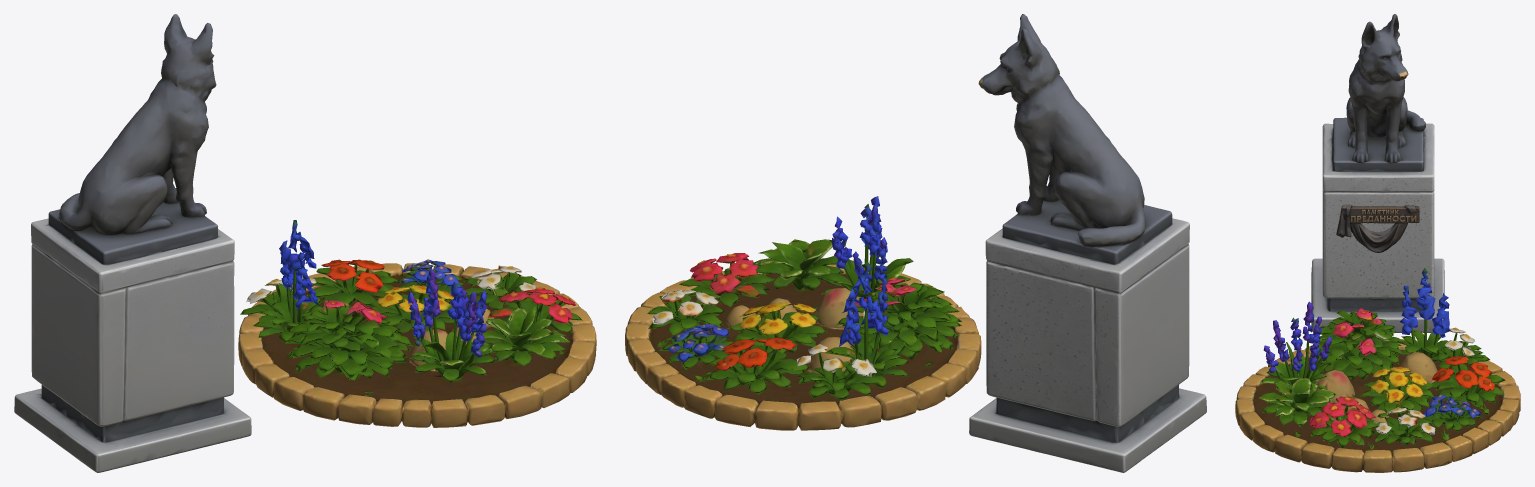
File: DOM_andreyvbvbvb_8.glb
3 renders of one model, left to right at view 1: azimuth 30°, elevation 25°; view 2: azimuth 150°, elevation 25°; view 3: azimuth 270°, elevation 25°, orthographic. The views are drawn at different scales.
Visible parts, largest first — view 1: tripo_node_e06c3dab-32b9-4c18-9968-e69ea7e20412, tripo_node_1d35d841-9beb-472e-8e19-c46cc261ab7f; view 2: tripo_node_e06c3dab-32b9-4c18-9968-e69ea7e20412, tripo_node_1d35d841-9beb-472e-8e19-c46cc261ab7f; view 3: tripo_node_1d35d841-9beb-472e-8e19-c46cc261ab7f, tripo_node_e06c3dab-32b9-4c18-9968-e69ea7e20412, tripo_node_790a4ffe-fda5-48c8-9080-62da0bc8688e.
Part boxes in pixels (box(x1,y1,x2,y2)): tripo_node_e06c3dab-32b9-4c18-9968-e69ea7e20412: box(14, 14, 251, 472); tripo_node_1d35d841-9beb-472e-8e19-c46cc261ab7f: box(238, 220, 596, 427); tripo_node_e06c3dab-32b9-4c18-9968-e69ea7e20412: box(969, 14, 1206, 472); tripo_node_1d35d841-9beb-472e-8e19-c46cc261ab7f: box(625, 196, 981, 430); tripo_node_1d35d841-9beb-472e-8e19-c46cc261ab7f: box(1235, 268, 1520, 472); tripo_node_e06c3dab-32b9-4c18-9968-e69ea7e20412: box(1311, 14, 1444, 332); tripo_node_790a4ffe-fda5-48c8-9080-62da0bc8688e: box(1336, 204, 1419, 252).
Size of the model in its own units: 1.39 by 1 by 0.8359.
7 materials, 3 textured.
